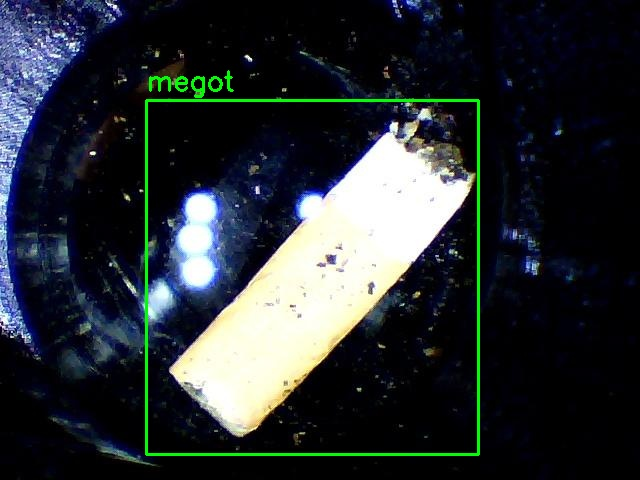megot: (146, 100, 478, 454)
